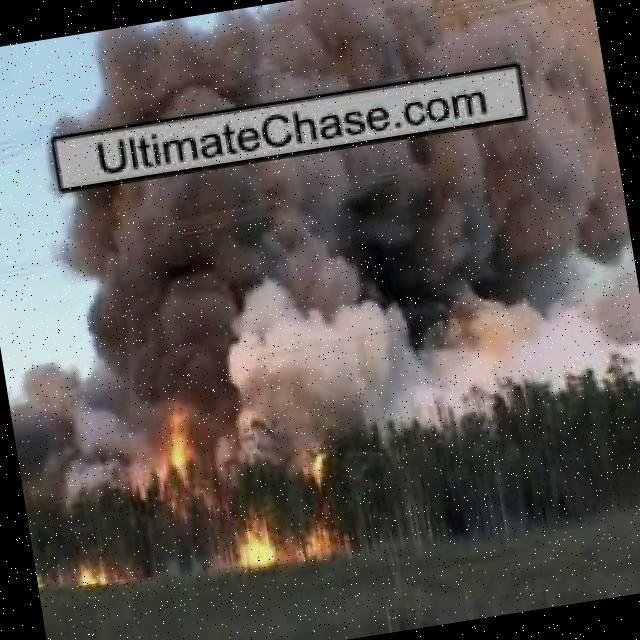Fire: (277, 442, 348, 559), (158, 399, 201, 483), (234, 502, 278, 572), (74, 555, 111, 589)
